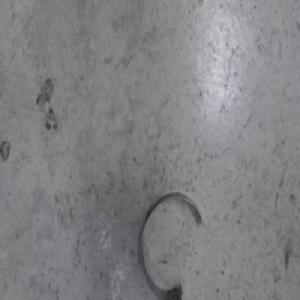AdjustableClamp: (139, 192, 206, 296)
